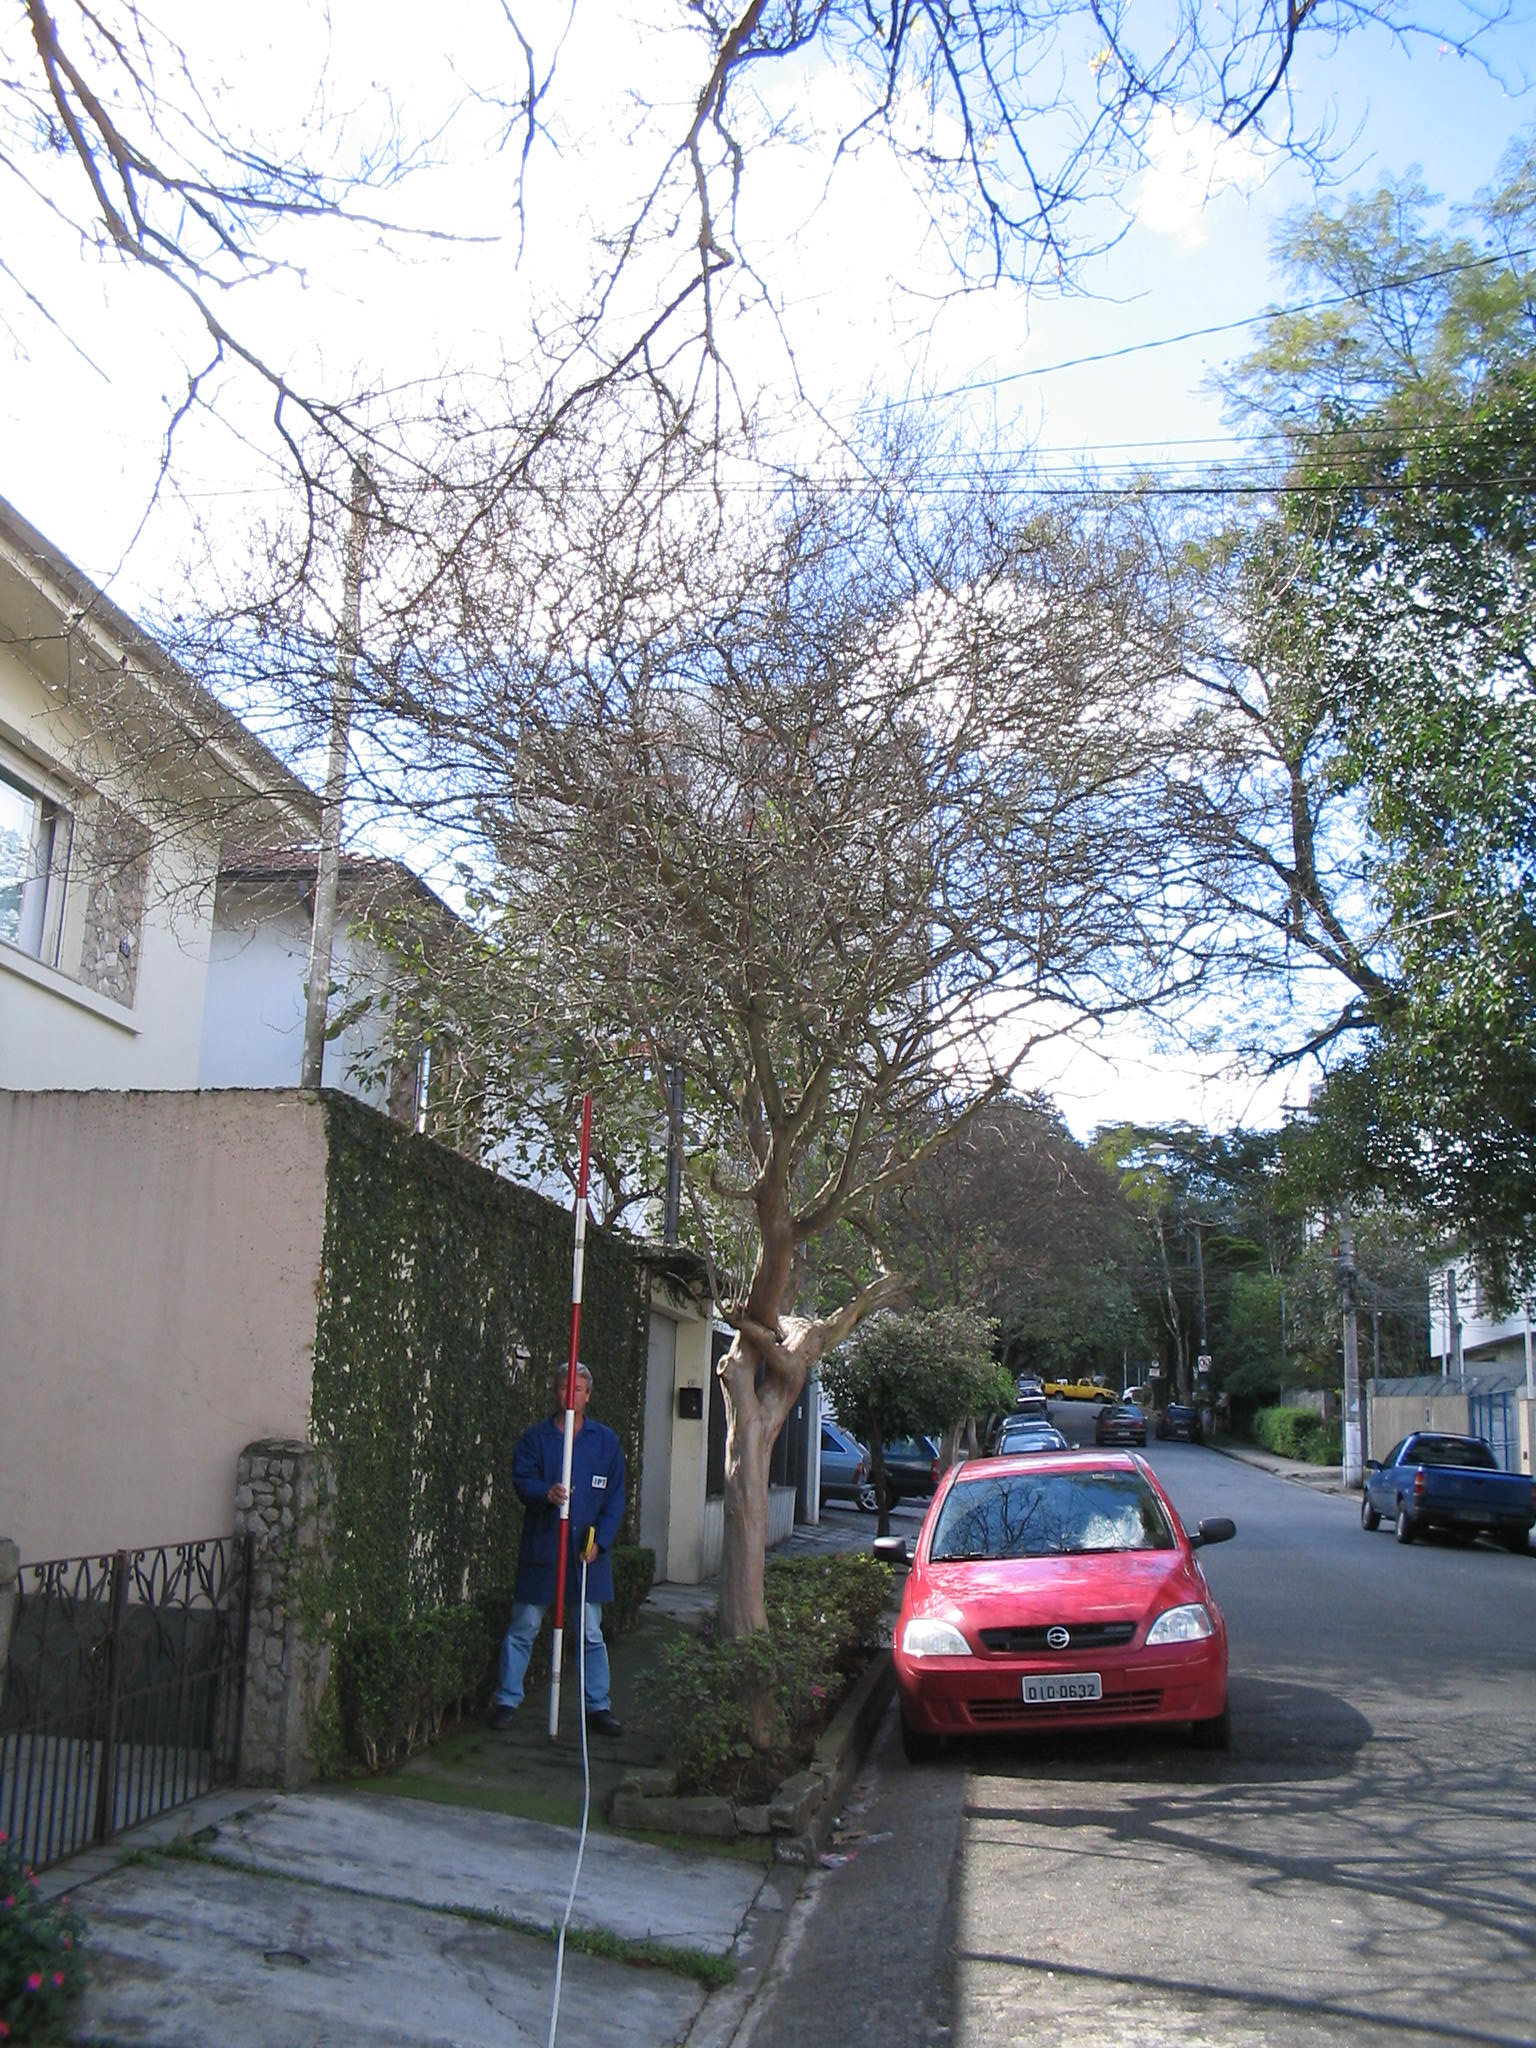stem: (666, 1382, 836, 1787)
stick: (516, 1095, 620, 1740)
tree: (74, 353, 1275, 1790)
